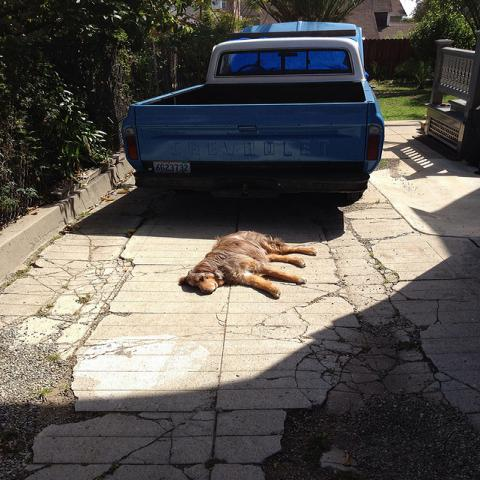truck: (122, 36, 384, 209)
